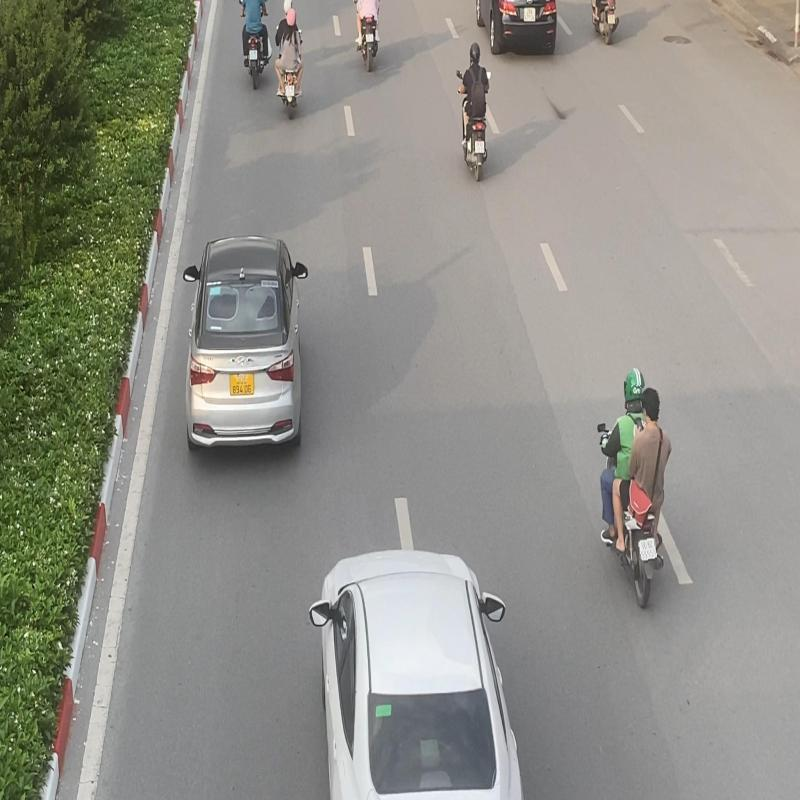helmet: (624, 366, 645, 404)
licenseplate: (638, 536, 657, 562)
motorcyclist: (595, 365, 673, 610)
nohelmet: (640, 386, 662, 423)
